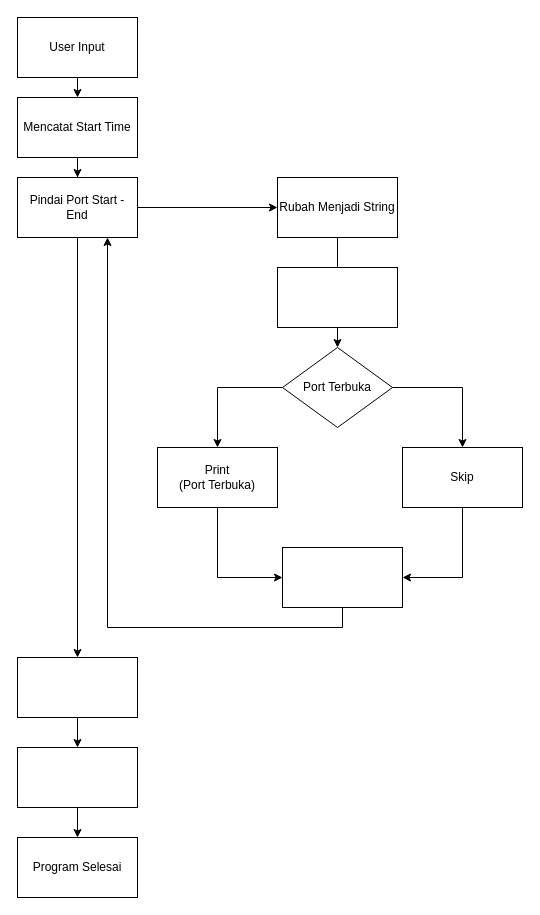
Image size: 540x915. Some labels were removed from this diagram. The centre of each missing label's shape, as x and y in pixels:
"Melakukan Koneksi Menggunakan soket" goes at [337,297].
"Melanjutkan Proses" goes at [342,577].
"Mencatat Finish Time" goes at [77,687].
"Menghitung Waktu Total" goes at [77,777].
